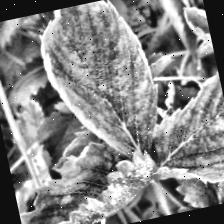Powdery Mildew Leaf: (30, 0, 172, 174), (7, 129, 166, 224), (131, 59, 224, 194), (156, 0, 201, 61), (182, 2, 216, 66)
